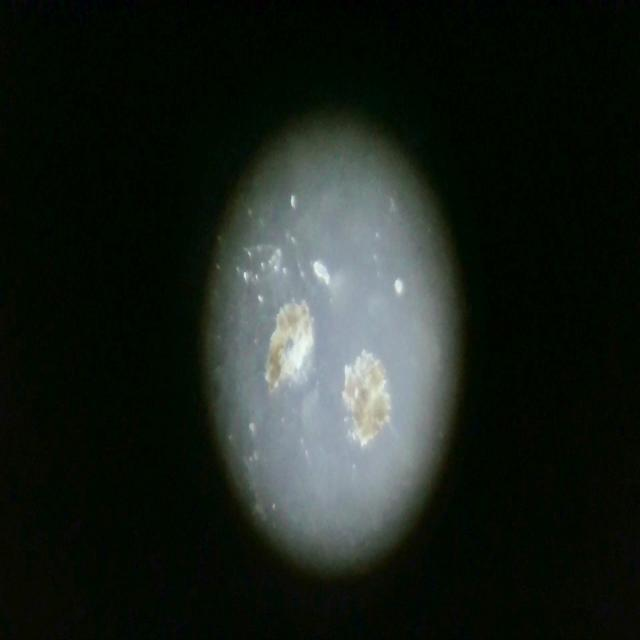alexandrium: (344, 356, 396, 451), (268, 297, 314, 383)
